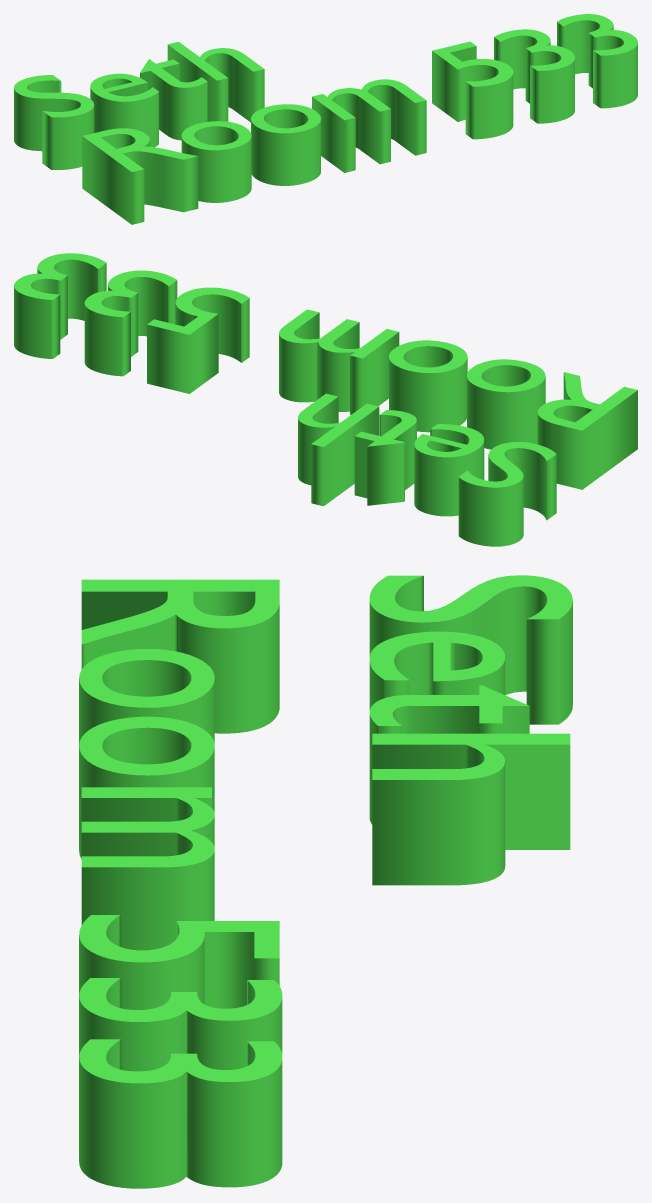
File: seth-533.gltf
3 views of the same model, one above another, from view 1: azimuth 30°, elevation 25°; view 2: azimuth 150°, elevation 25°; view 3: azimuth 270°, elevation 25° (orthographic). The views are drawn at different scales.
Visible parts, largest first — view 1: Text; view 2: Text; view 3: Text.
Part boxes in pixels (box(x1,y1,x2,y2)): Text: box(14, 14, 637, 224); Text: box(14, 253, 637, 546); Text: box(79, 575, 572, 1188).
Bounding box in the file's own units: 4.14 × 0.4 × 1.7.
